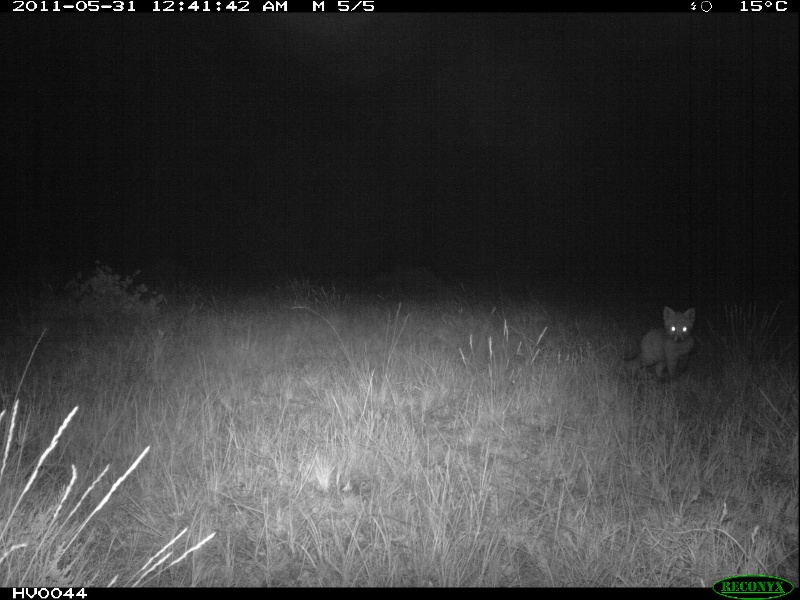fox: (622, 305, 702, 385)
